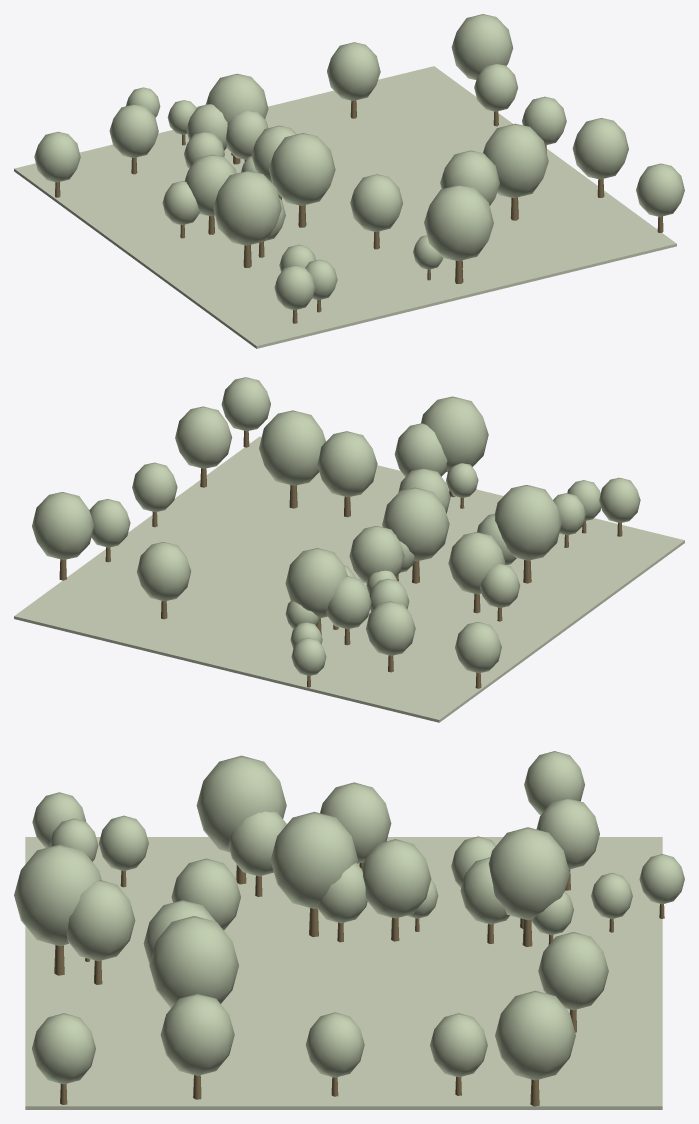
3 views of the same model, one above another, from view 1: azimuth 30°, elevation 25°; view 2: azimuth 150°, elevation 25°; view 3: azimuth 270°, elevation 25° (orthographic). The views are drawn at different scales.
Visible parts, largest first — view 1: terrain, lod-near-7, lod-near-5, lod-near-1, lod-near-29, lod-near-18, lod-near-3, lod-near-25, lod-near-31, lod-near-22, lod-near-2, lod-near-24 (+16 smaller); view 2: terrain, lod-near-5, lod-near-29, lod-near-1, lod-near-18, lod-near-7, lod-near-10, lod-near-24, lod-near-3, lod-near-25, lod-near-15, lod-near-11 (+17 smaller); view 3: terrain, lod-near-29, lod-near-1, lod-near-7, lod-near-24, lod-near-18, lod-near-5, lod-near-3, lod-near-11, lod-near-25, lod-near-12, lod-near-2 (+17 smaller).
Part boxes in pixels (x1,y1,x2,y2): terrain: (14,66,676,348); lod-near-7: (424,184,493,261); lod-near-5: (213,171,281,245); lod-near-1: (269,133,335,205); lod-near-29: (483,123,548,198); lod-near-18: (451,14,513,79); lod-near-3: (572,118,628,179); lod-near-25: (327,42,380,100); lod-near-31: (350,174,402,231); lod-near-22: (109,104,158,157); lod-near-2: (636,163,684,216); lod-near-24: (206,73,268,122); terrain: (14,436,684,722); lod-near-5: (494,485,561,560); lod-near-29: (259,410,325,485); lod-near-1: (382,487,449,561); lod-near-18: (32,492,94,559); lod-near-7: (421,396,488,472); lod-near-10: (317,431,377,497); lod-near-24: (285,548,347,618); lod-near-3: (175,406,232,468); lod-near-25: (137,542,191,601); lod-near-15: (448,532,505,594); lod-near-11: (349,526,404,583); terrain: (25,837,662,1109); lod-near-29: (149,916,238,1007); lod-near-1: (270,811,358,908); lod-near-7: (14,844,101,945); lod-near-24: (488,827,569,919); lod-near-18: (495,990,575,1080); lod-near-5: (196,755,286,852); lod-near-3: (160,993,234,1075); lod-near-11: (362,839,431,918); lod-near-25: (538,932,608,1010); lod-near-12: (67,880,135,961); lod-near-2: (32,1013,95,1084).
Bounding box in the file's own units: 35.37 × 7.29 × 33.69.
